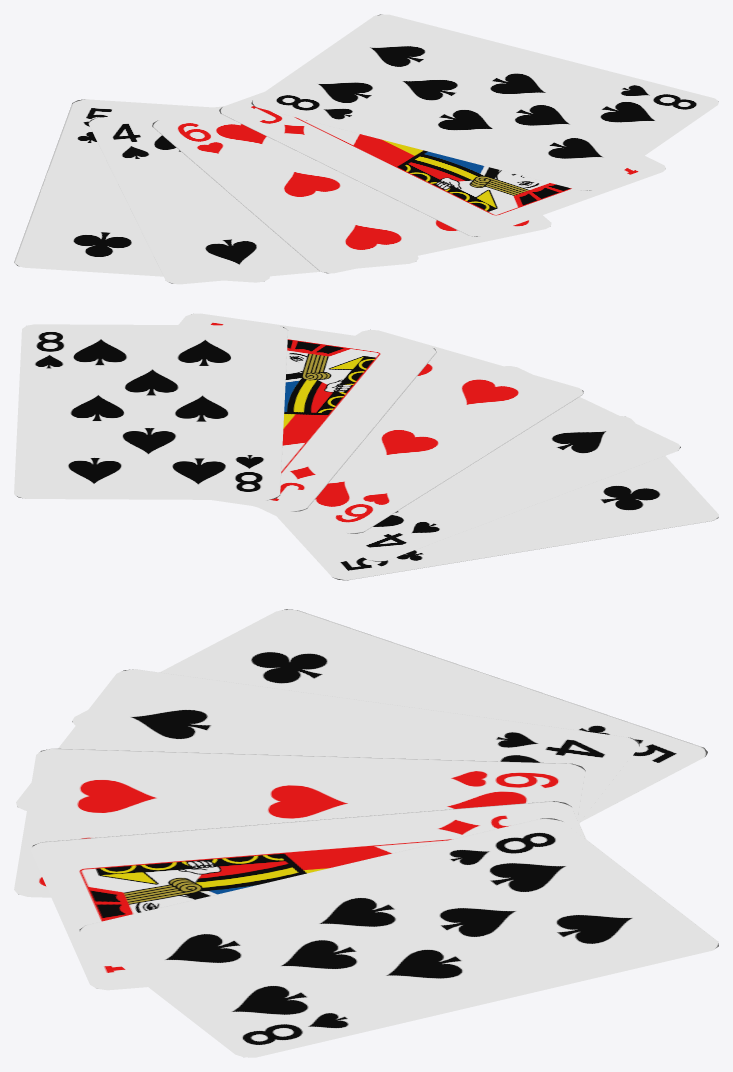
Rendered from 5cards_00.fbx.
The picture shows the model from 3 angles, top to bottom: view 1: azimuth 30°, elevation 25°; view 2: azimuth 150°, elevation 25°; view 3: azimuth 270°, elevation 25°; orthographic projection. The views are drawn at different scales.
Visible parts, largest first — view 1: Card; view 2: Card; view 3: Card.
Boxes of the visible parts, x1,y1,x2,y2 form: Card: [14, 14, 718, 284]; Card: [14, 313, 718, 580]; Card: [14, 609, 718, 1057].
Size of the model in its own units: 0.1748 by 0.00227 by 0.1135.
